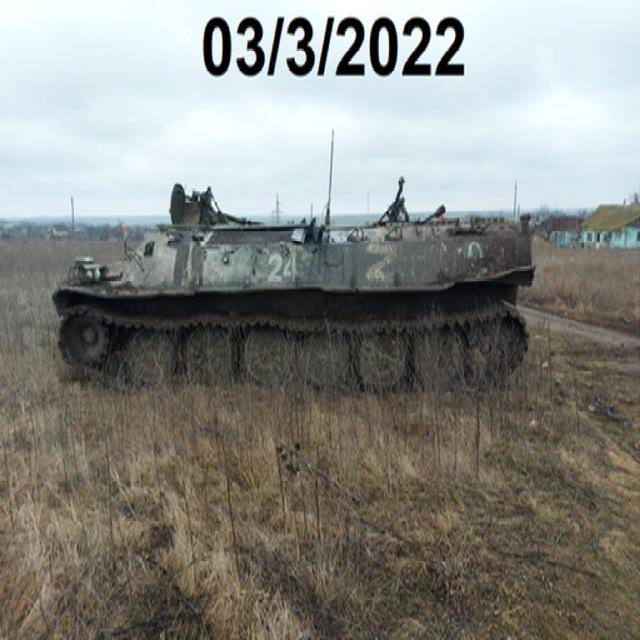APC-IFV: (47, 158, 535, 453)
